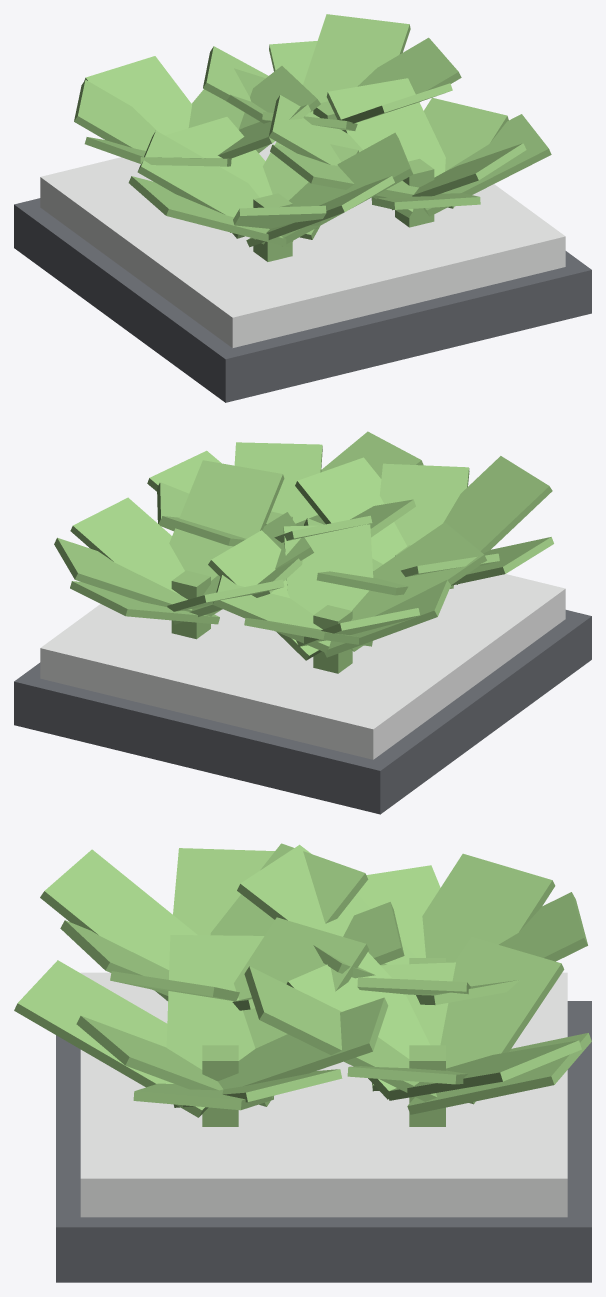
The model's file is vertical-farm-and-hydroponics-tower-vertical-farm-and--b4b33315__38352.glb.
The picture shows the model from 3 angles, top to bottom: view 1: azimuth 30°, elevation 25°; view 2: azimuth 150°, elevation 25°; view 3: azimuth 270°, elevation 25°; orthographic projection. The views are drawn at different scales.
Visible parts, largest first — view 1: vertical-farm-and-hydroponics-tower-leafy-crop-cluster-lettu (×3); view 2: vertical-farm-and-hydroponics-tower-leafy-crop-cluster-lettu (×3); view 3: vertical-farm-and-hydroponics-tower-leafy-crop-cluster-lettu (×3).
Boxes of the visible parts, x1,y1,x2,y2 form: vertical-farm-and-hydroponics-tower-leafy-crop-cluster-lettu (×3): [14, 14, 591, 402]; vertical-farm-and-hydroponics-tower-leafy-crop-cluster-lettu (×3): [14, 431, 591, 814]; vertical-farm-and-hydroponics-tower-leafy-crop-cluster-lettu (×3): [14, 843, 591, 1282].
Bounding box in the file's own units: 0.4595 × 0.2119 × 0.4746.
